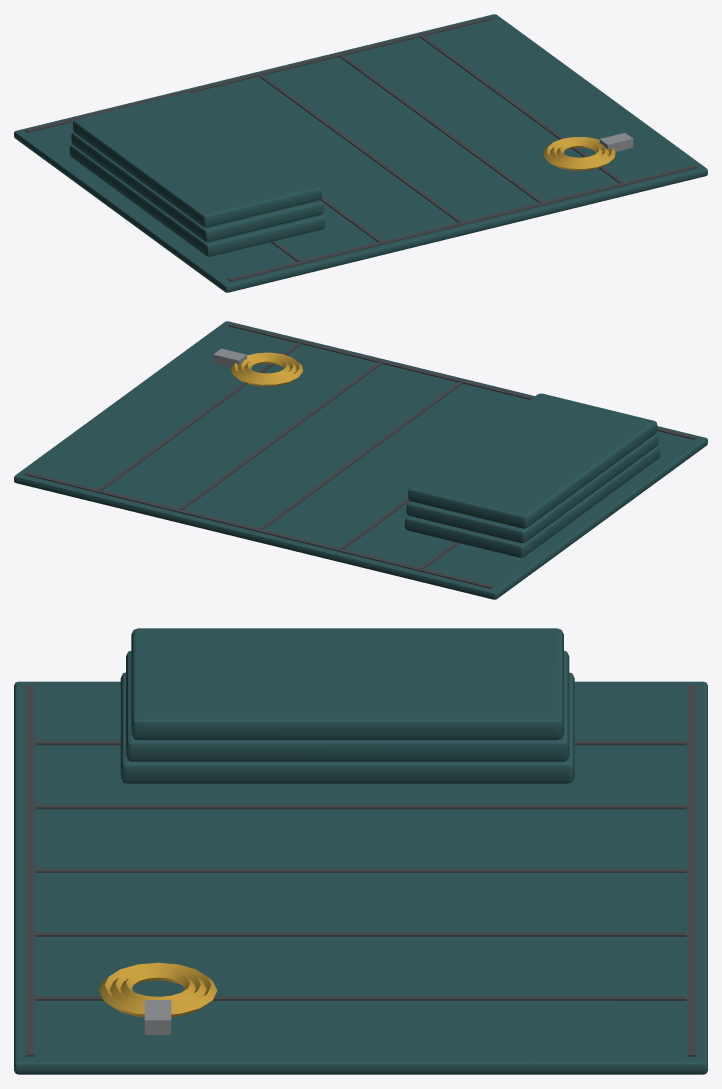
The model's file is prop_secure_lift_blanket.glb.
The picture shows the model from 3 angles, top to bottom: view 1: azimuth 30°, elevation 25°; view 2: azimuth 150°, elevation 25°; view 3: azimuth 270°, elevation 25°; orthographic projection. The views are drawn at different scales.
Visible parts, largest first — view 1: Body; view 2: Body; view 3: Body.
Boxes of the visible parts, bbox=[...] form: Body: bbox=[14, 14, 707, 292]; Body: bbox=[14, 321, 707, 599]; Body: bbox=[14, 628, 707, 1074].
Size of the model in its own units: 1.7 by 0.161 by 1.3.
